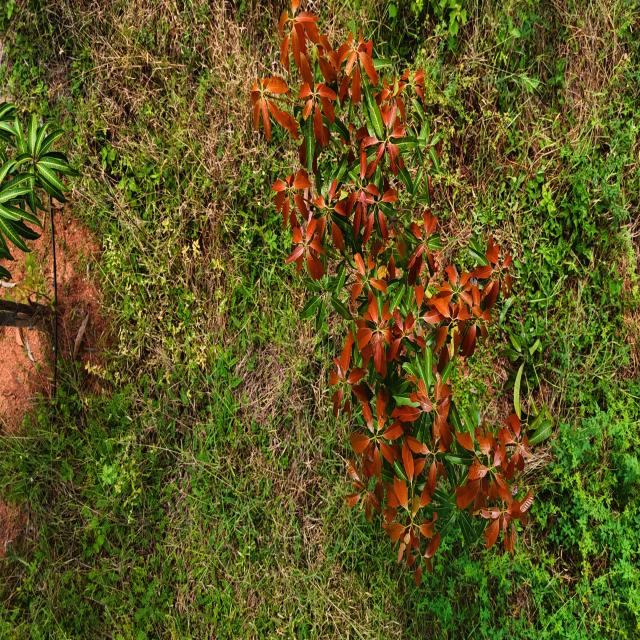mangoTree: (249, 0, 537, 590), (0, 60, 82, 331)
